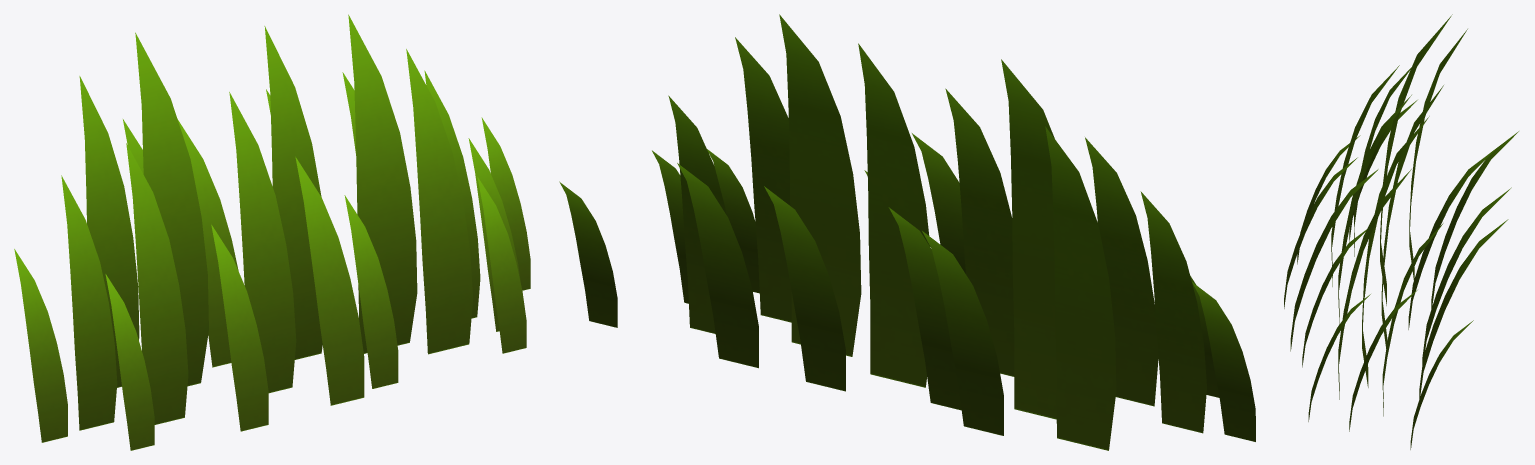
The model's file is MESH_Gros_Bush01.fbx.
3 views of the same model, side by side, from view 1: azimuth 30°, elevation 25°; view 2: azimuth 150°, elevation 25°; view 3: azimuth 270°, elevation 25° (orthographic). The views are drawn at different scales.
Parts seen in each view (by area): view 1: MESH_Gros_Bush01; view 2: MESH_Gros_Bush01; view 3: MESH_Gros_Bush01.
Boxes of the visible parts, bbox=[...] form: MESH_Gros_Bush01: bbox=[14, 14, 530, 450]; MESH_Gros_Bush01: bbox=[559, 14, 1255, 450]; MESH_Gros_Bush01: bbox=[1284, 14, 1518, 449].
Size of the model in its own units: 1.17 by 0.6949 by 0.5285.
